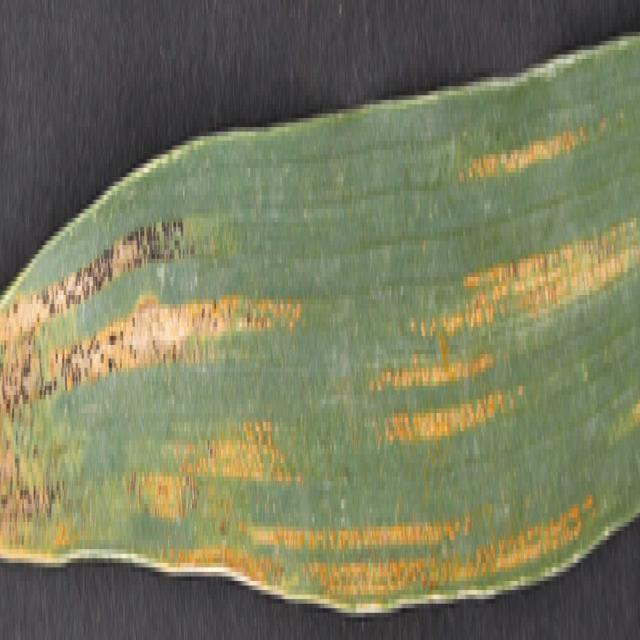leaf rust: (1, 86, 637, 599)
